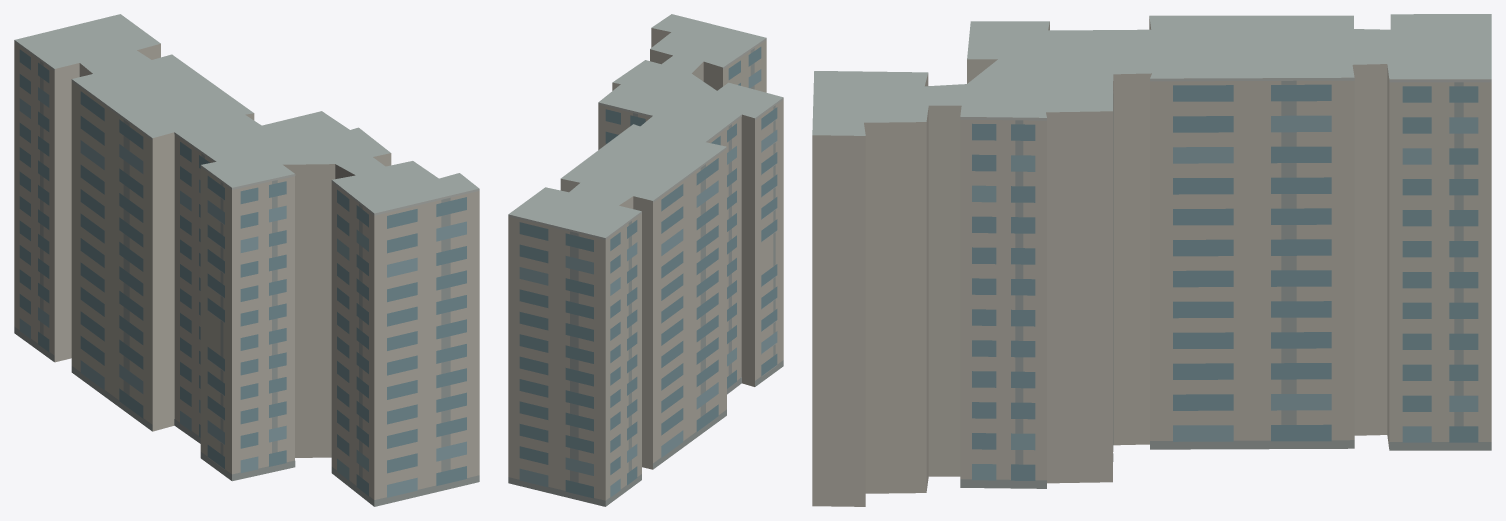
The model's file is survey-upis-32468549.glb.
The picture shows the model from 3 angles, left to right: view 1: azimuth 30°, elevation 25°; view 2: azimuth 150°, elevation 25°; view 3: azimuth 270°, elevation 25°; orthographic projection. The views are drawn at different scales.
Parts seen in each view (by area): view 1: survey-upis-32468549.tmp; view 2: survey-upis-32468549.tmp; view 3: survey-upis-32468549.tmp.
Part boxes in pixels (x1,y1,x2,y2): survey-upis-32468549.tmp: (14, 14, 479, 506); survey-upis-32468549.tmp: (508, 14, 783, 506); survey-upis-32468549.tmp: (812, 14, 1491, 506).
Size of the model in its own units: 22.71 by 32.2 by 53.45.
